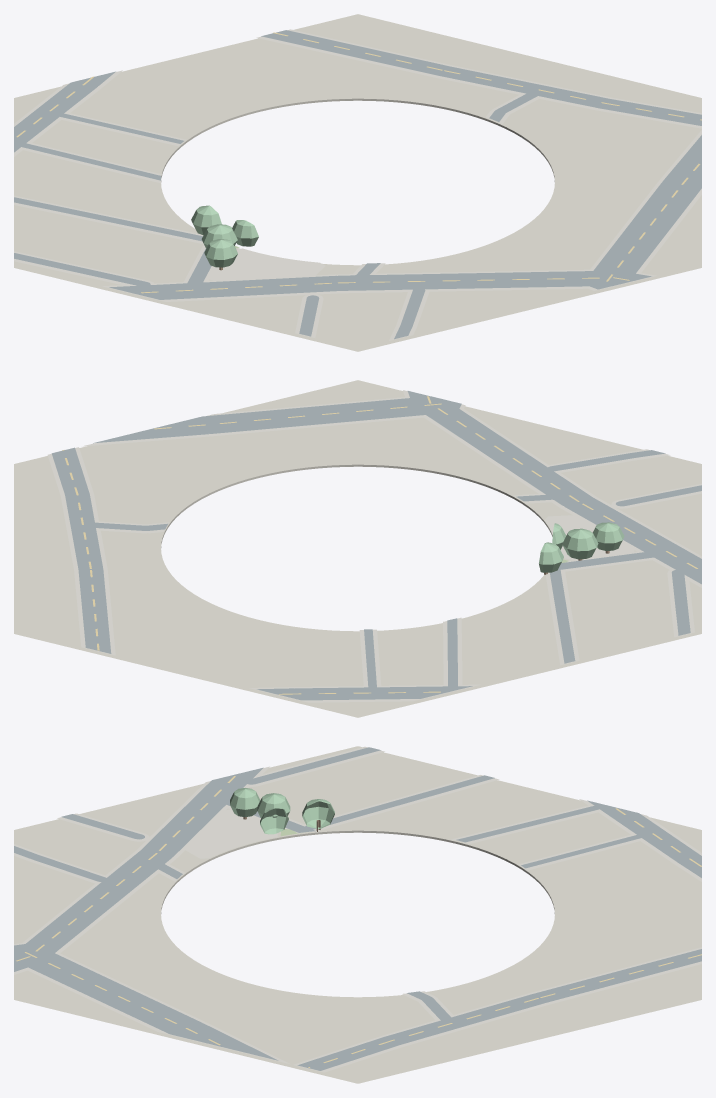
The model's file is surround-P13.glb.
3 renders of one model, top to bottom at view 1: azimuth 30°, elevation 25°; view 2: azimuth 150°, elevation 25°; view 3: azimuth 270°, elevation 25°, orthographic.
Visible parts, largest first — view 1: P13_ground, P13_road, P13_paving, P13_leaf, P13_yellow; view 2: P13_ground, P13_road, P13_paving, P13_leaf, P13_yellow; view 3: P13_ground, P13_road, P13_paving, P13_leaf, P13_yellow.
Part boxes in pixels (x1,y1,x2,y2): P13_ground: (14,14,701,351); P13_road: (14,30,701,339); P13_paving: (14,29,701,340); P13_leaf: (191,205,258,267); P13_yellow: (16,32,701,293); P13_ground: (14,380,701,717); P13_road: (51,391,701,700); P13_paving: (47,390,701,702); P13_leaf: (539,522,624,572); P13_yellow: (62,396,697,694); P13_ground: (14,746,701,1083); P13_road: (14,747,701,1070); P13_paving: (14,746,701,1072); P13_leaf: (230,788,334,834); P13_yellow: (16,776,701,1067).
Size of the model in its own units: 16.16 by 0.7536 by 14.
